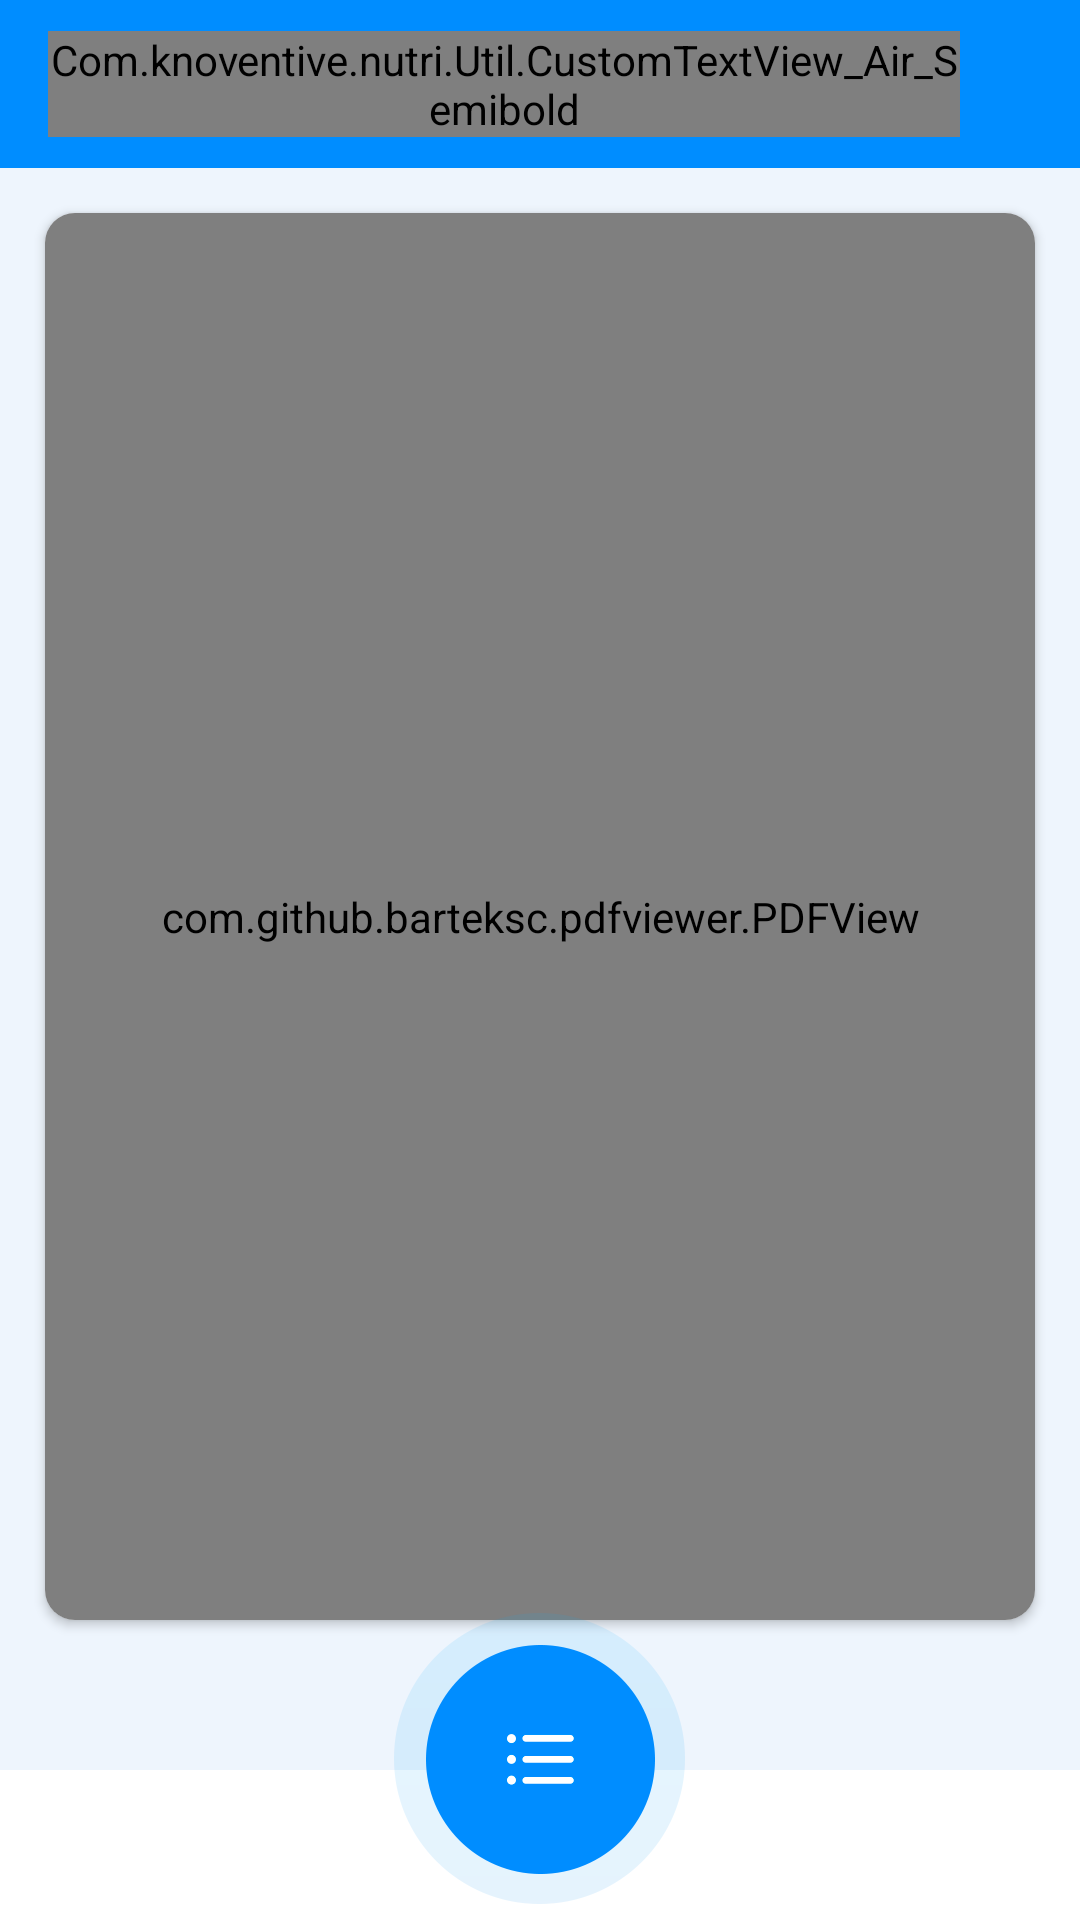

Where to tap for icons on this 1080×1920 app screen, as point (x, y):
menu: point (539, 1758)
